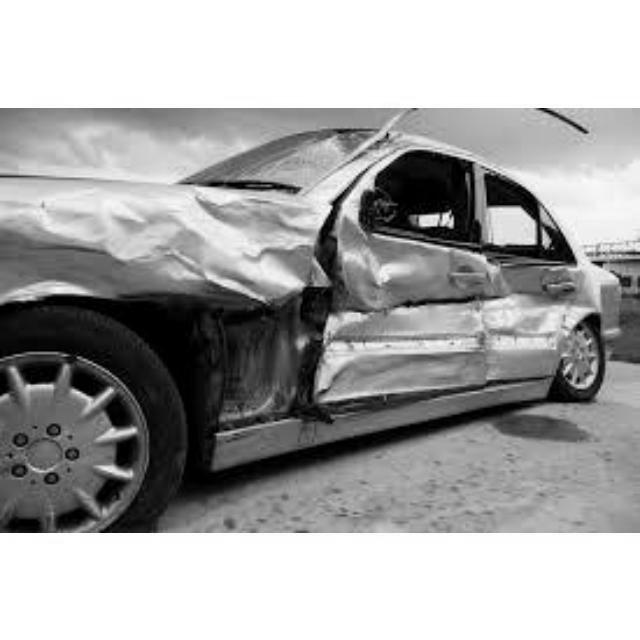doorouter-dent: (347, 184, 481, 388), (494, 250, 587, 387)
fender-dent: (10, 182, 303, 291)
